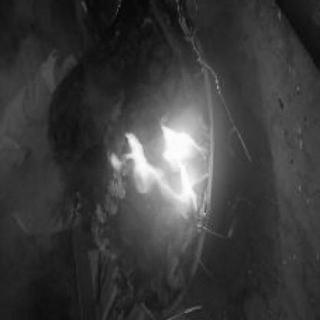Fire: (83, 105, 221, 282)
